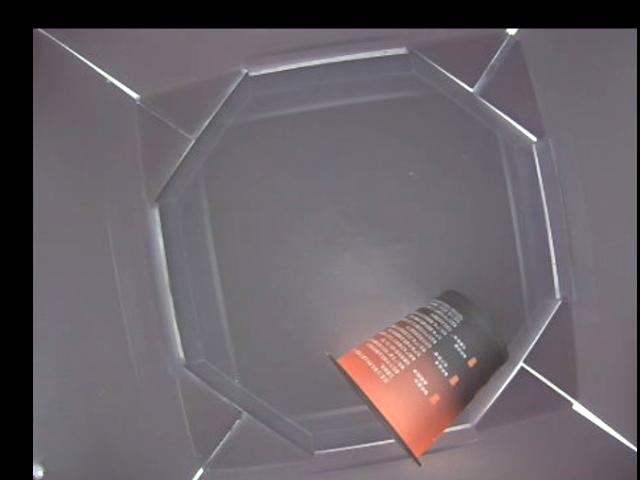Cup: (330, 286, 507, 463)
